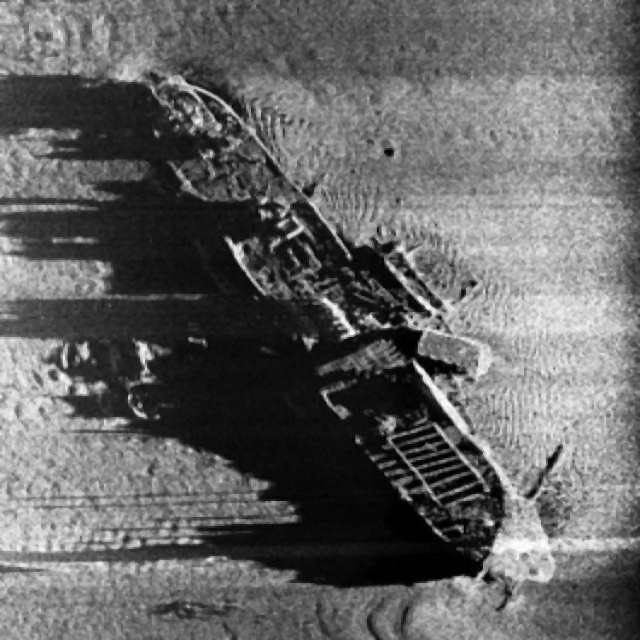Ship: (116, 57, 568, 598)
